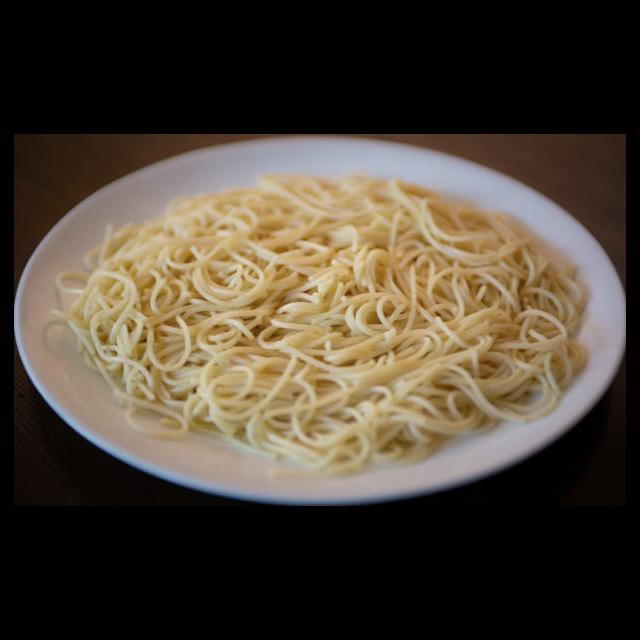noodles: (47, 171, 590, 472)
